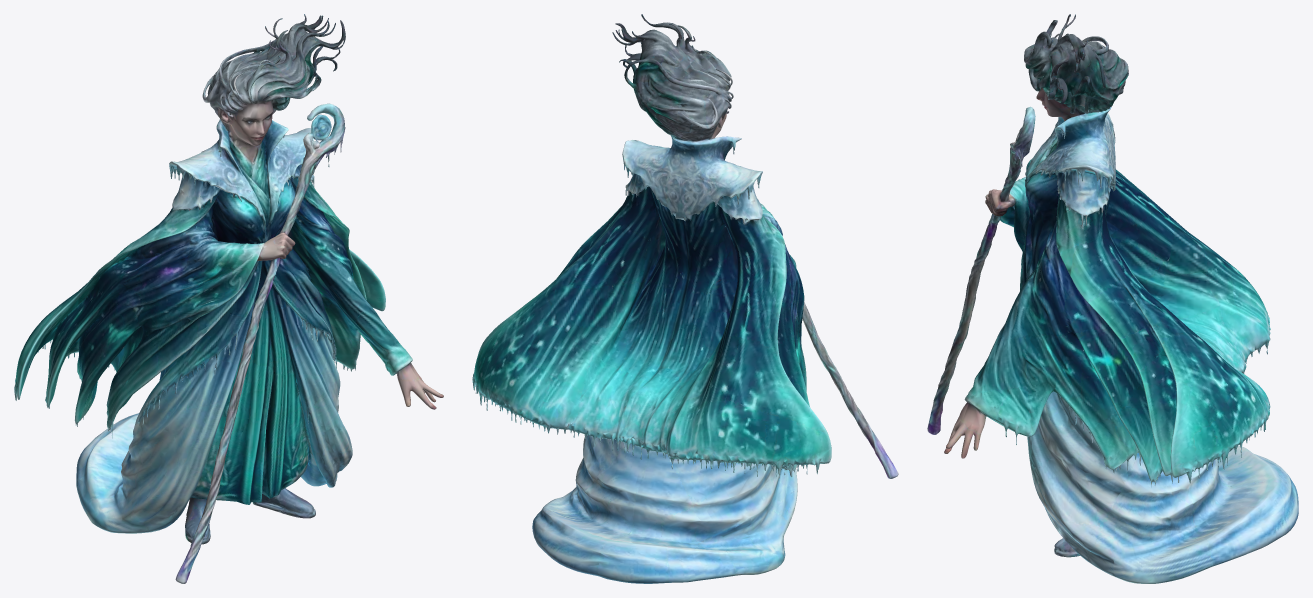
The model's file is hero_tide.glb.
3 renders of one model, left to right at view 1: azimuth 30°, elevation 25°; view 2: azimuth 150°, elevation 25°; view 3: azimuth 270°, elevation 25°, orthographic. The views are drawn at different scales.
Size of the model in its own units: 1.46 by 1.9 by 1.21.
Materials: 1 (1 with a texture image).
